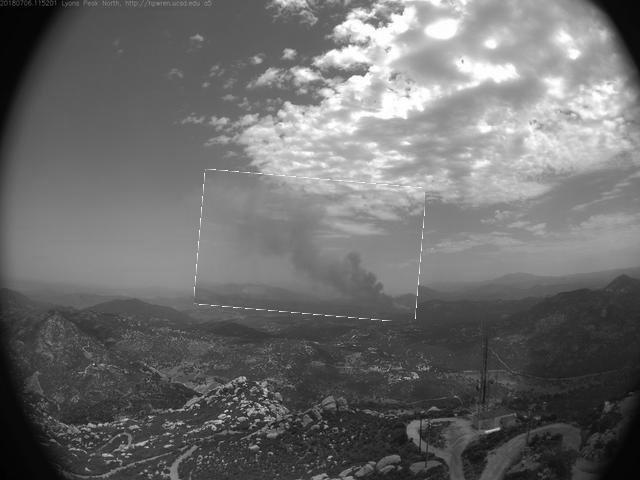smoke: (198, 175, 425, 319)
